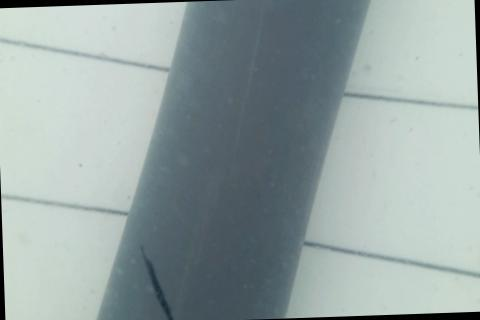keretakan: (138, 242, 179, 320)
